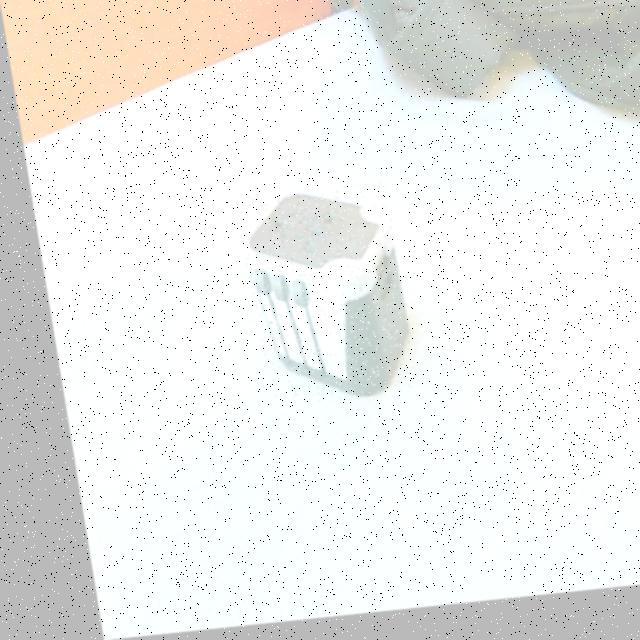adapter: (228, 187, 405, 411)
